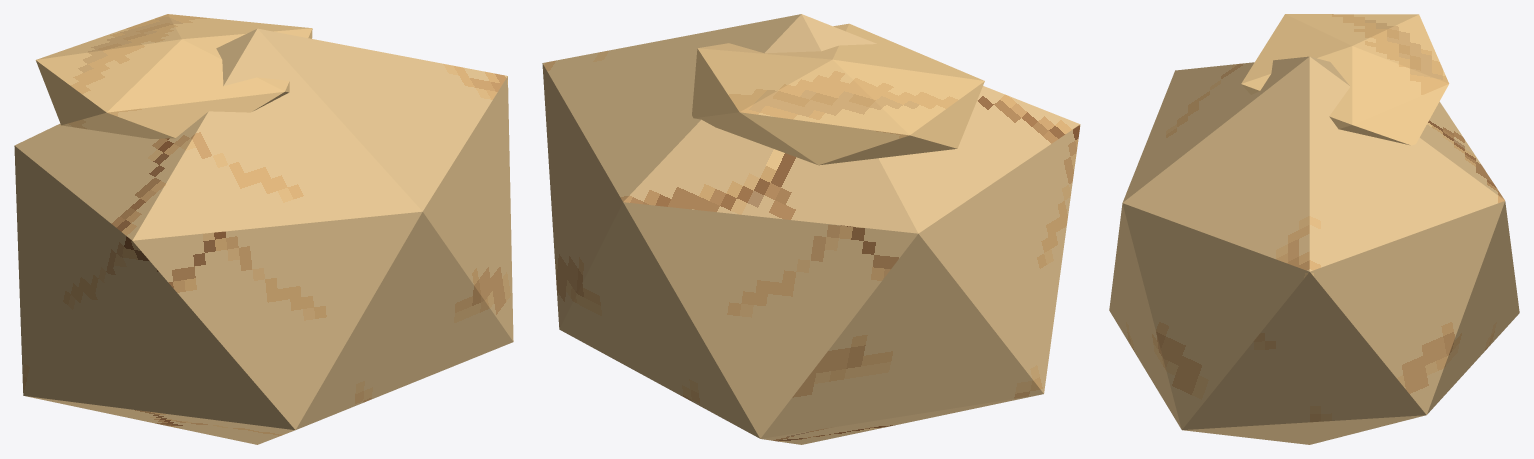
File: pedra.glb
3 views of the same model, side by side, from view 1: azimuth 30°, elevation 25°; view 2: azimuth 150°, elevation 25°; view 3: azimuth 270°, elevation 25° (orthographic). The views are drawn at different scales.
Parts seen in each view (by area): view 1: deserto_pedra; view 2: deserto_pedra; view 3: deserto_pedra.
Boxes of the visible parts, box(x1,y1,x2,y2) form: deserto_pedra: box(14, 14, 513, 444); deserto_pedra: box(542, 14, 1080, 444); deserto_pedra: box(1109, 14, 1519, 444).
Bounding box in the file's own units: 0.7353 × 0.6037 × 0.5782.
Materials: 2 (2 with a texture image).
